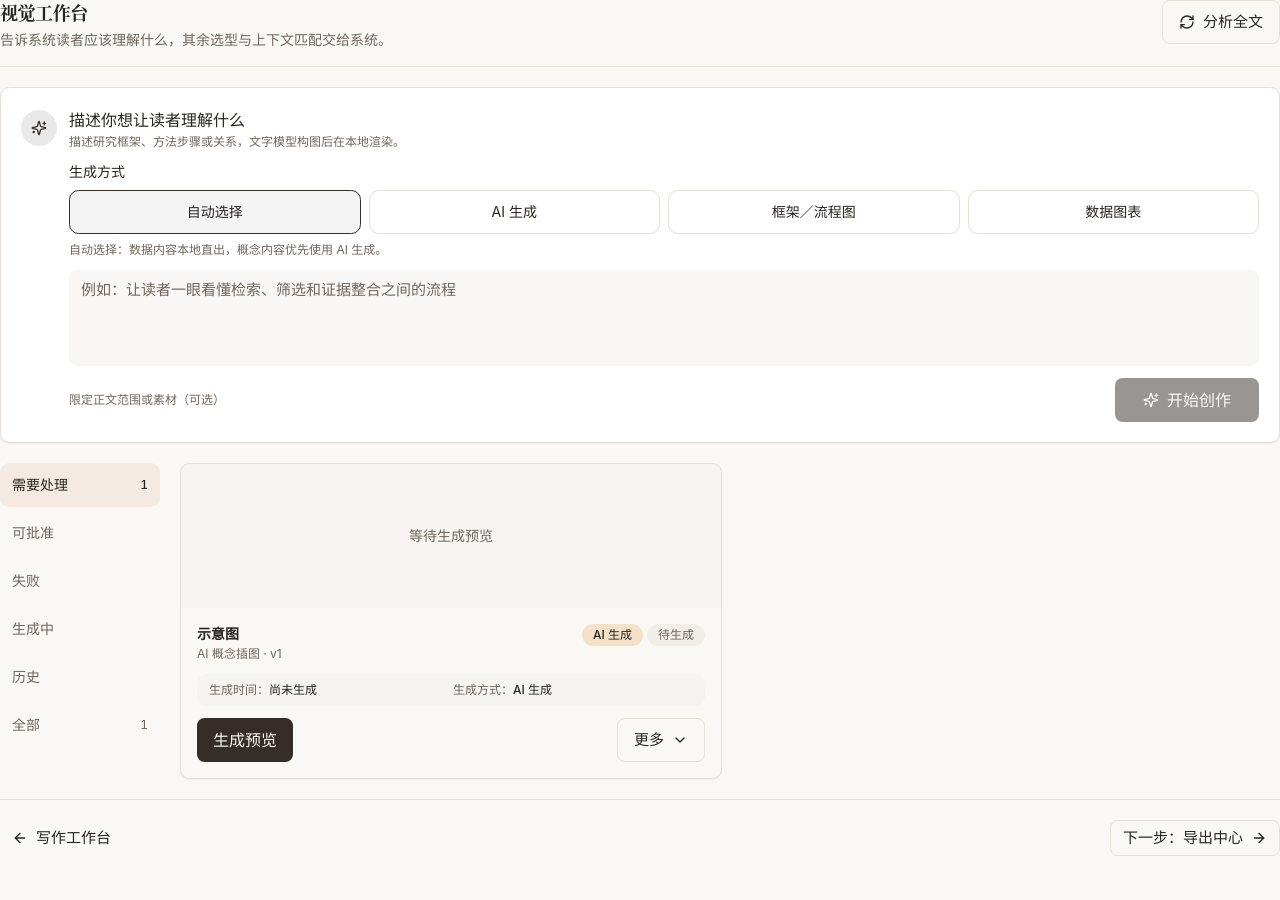
Scenario: 视觉工作台 › 自动优化过的提示词在确认框里清晰标明
What coordinates should you click on to do the following:
click the button "生成预览"
I would click on:
 (245, 740)
Its box is [197, 718, 293, 762].
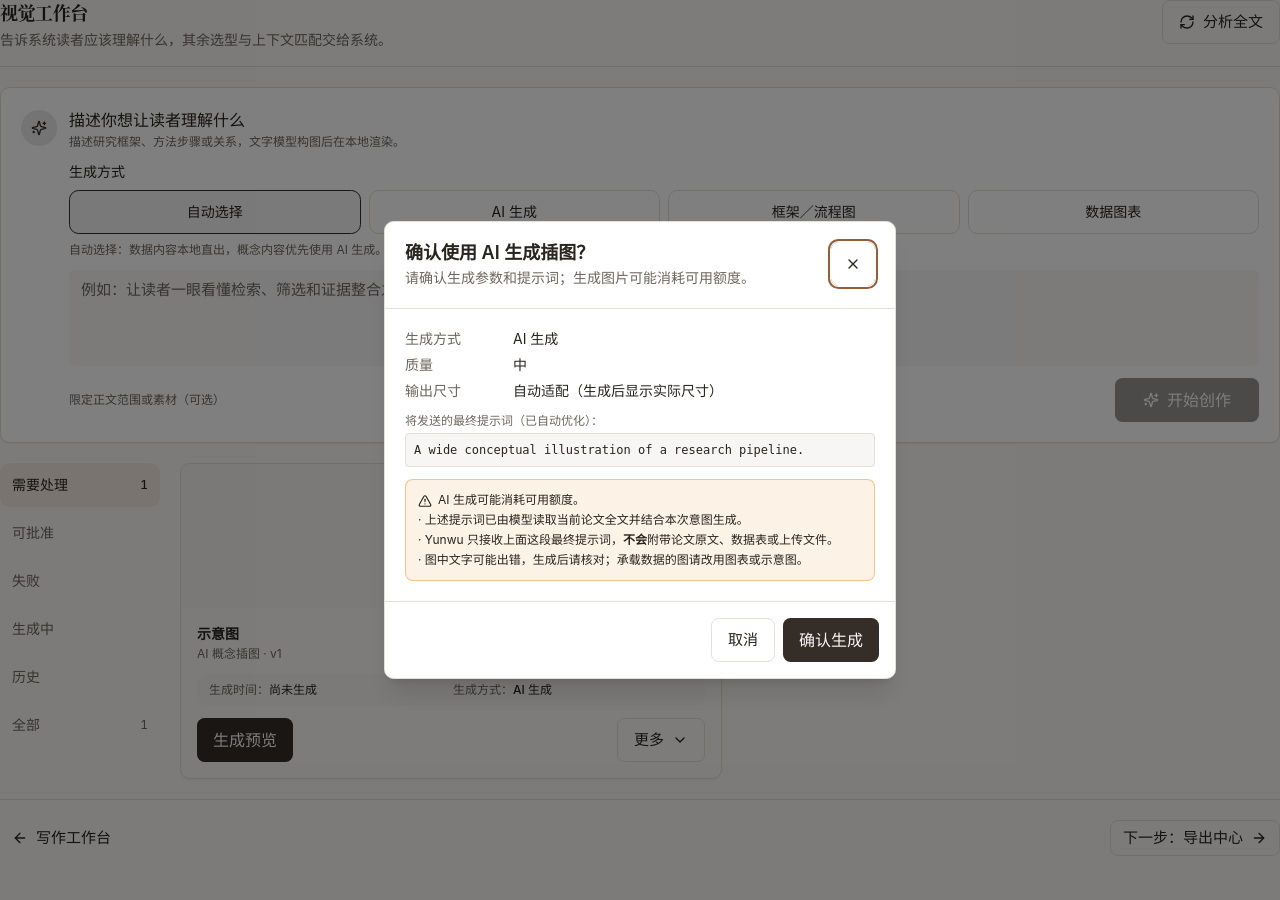
Expected: the text "将发送的最终提示词（已自动优化）：" is shown, [405, 413, 603, 428]
Expected: the text "A wide conceptual illustration of a research pipeline." is shown, [405, 433, 875, 467]
